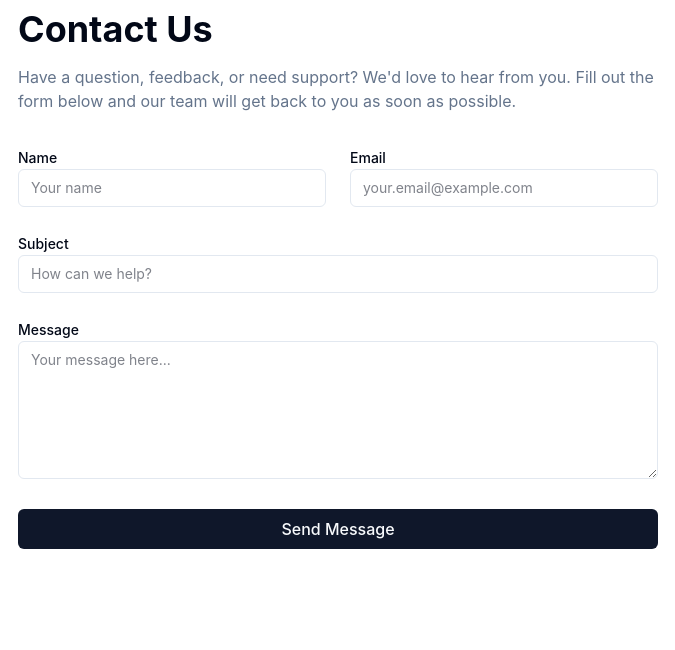
Test: Contact Component › shows validation errors when submitting empty form
The width and height of the screenshot is (675, 650).
Click the button "Send Message" at (338, 529), box [18, 509, 658, 549]
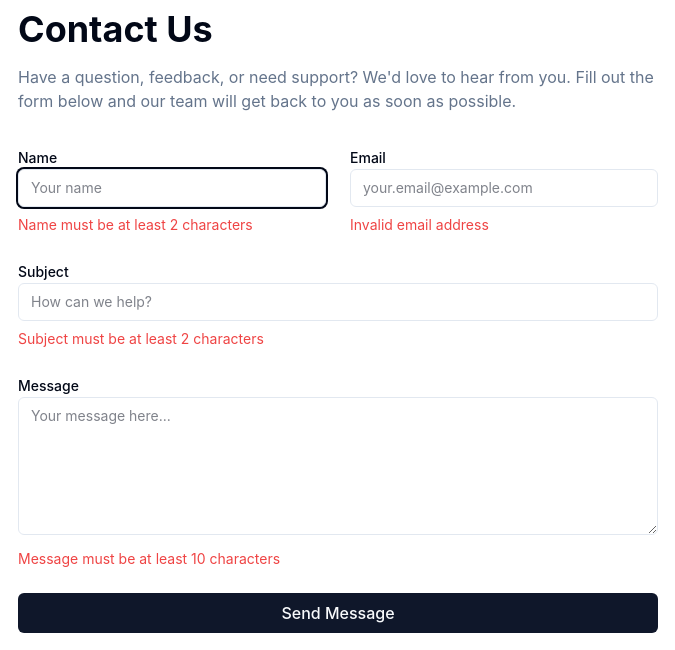
Result: the text "Name must be at least 2 characters" is shown at [18, 216, 253, 233]
Result: the text "Invalid email address" is shown at [350, 216, 489, 233]
Result: the text "Subject must be at least 2 characters" is shown at [18, 330, 264, 347]
